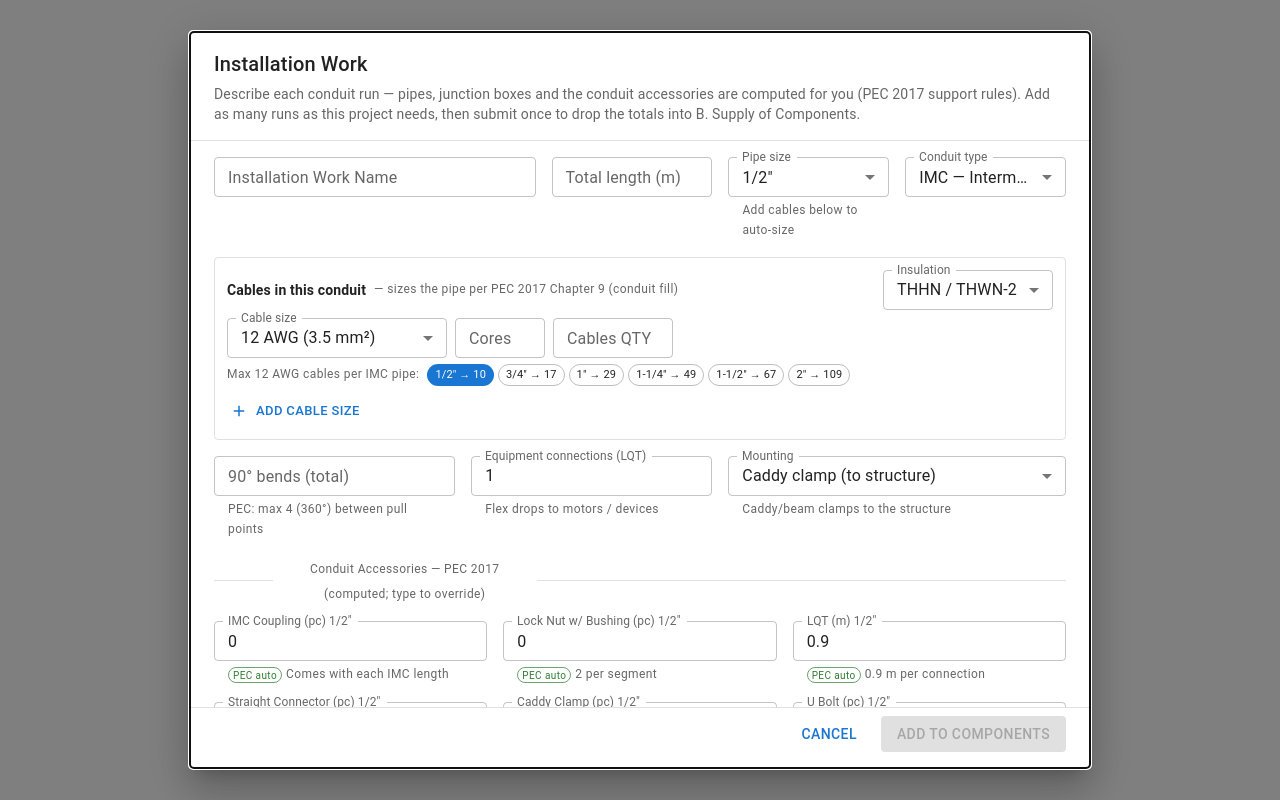
Scenario: shows how many cables of the chosen size each pipe can take
Expected: the text "1/2\" → 10" is shown, 435,368 -> 486,381
Expected: the text "3/4\" → 17" is shown, 506,368 -> 557,381
// Clicking a size picks that pipe.
Click the button "1\" → 29" at (596, 375), box 569,364 -> 624,386
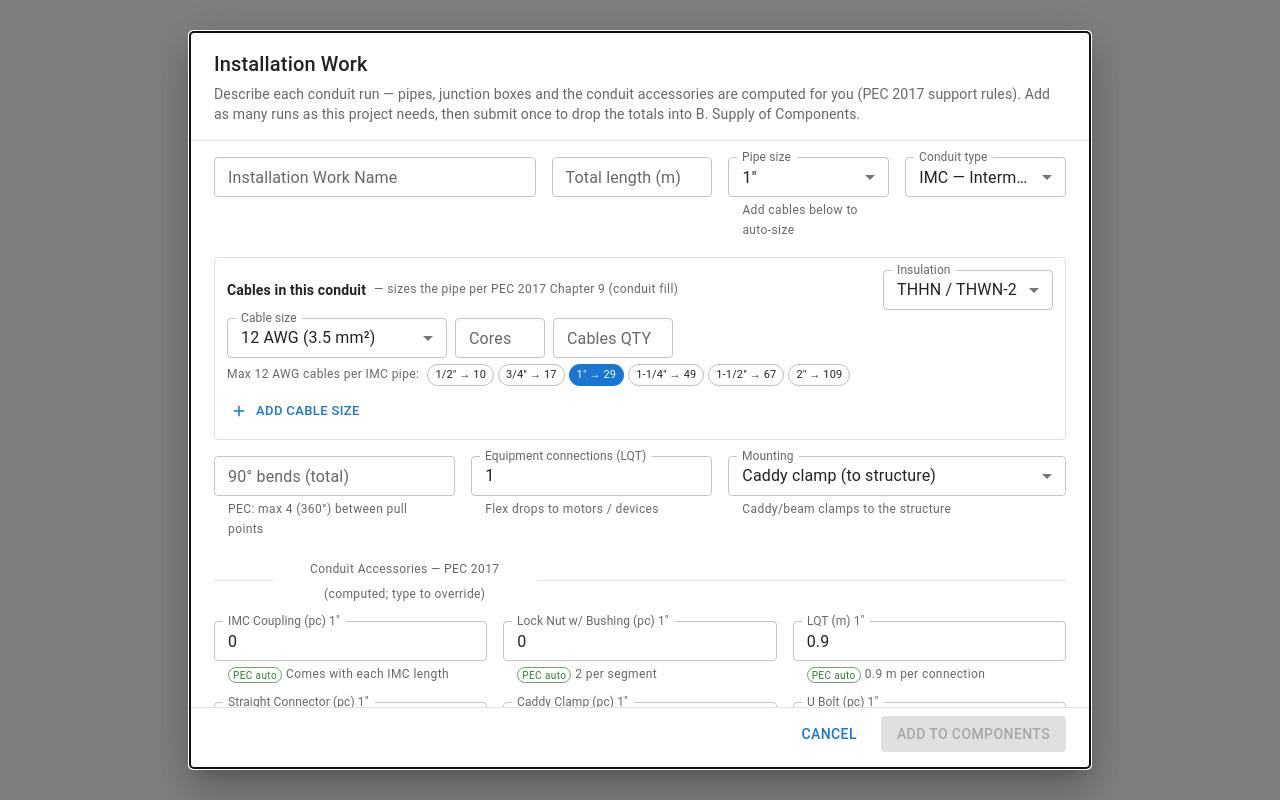
Now the dropdown named "pipe size" reads "1\"", box 742,168 -> 757,186
